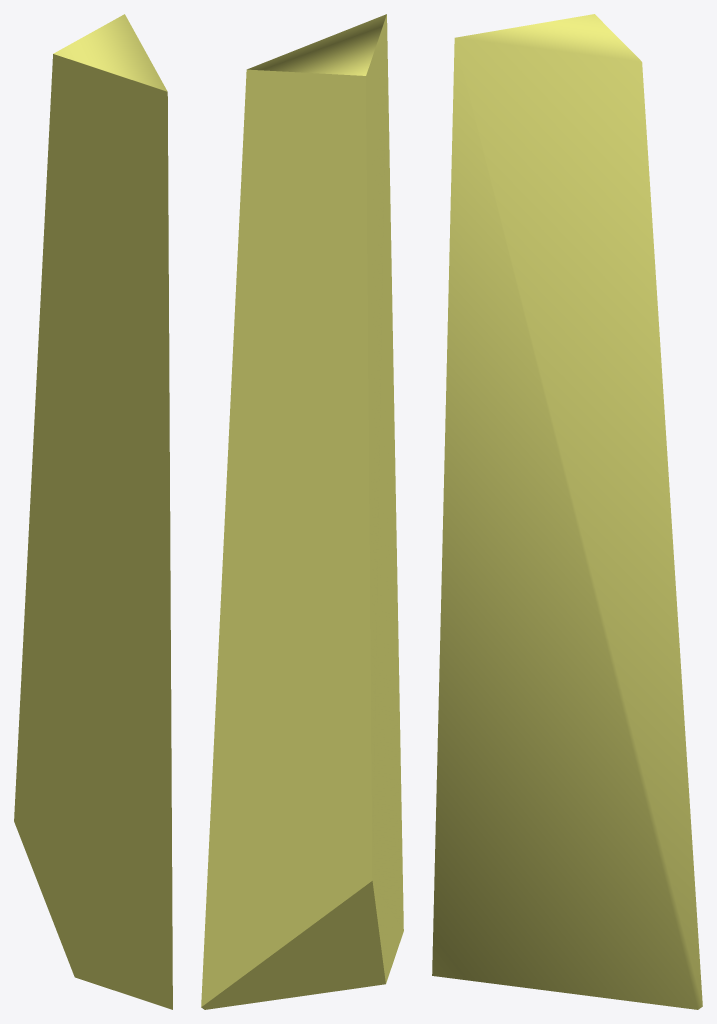
Rendered from breakableCenter_cell_014.fbx.
3 views of the same model, side by side, from view 1: azimuth 30°, elevation 25°; view 2: azimuth 150°, elevation 25°; view 3: azimuth 270°, elevation 25° (orthographic). The views are drawn at different scales.
Visible parts, largest first — view 1: breakableCenter_cell.014; view 2: breakableCenter_cell.014; view 3: breakableCenter_cell.014.
Boxes of the visible parts, x1,y1,x2,y2 form: breakableCenter_cell.014: (14,14,172,1009); breakableCenter_cell.014: (201,14,403,1009); breakableCenter_cell.014: (432,14,702,1009).
Bounding box in the file's own units: 2.16 × 14.14 × 3.69.
